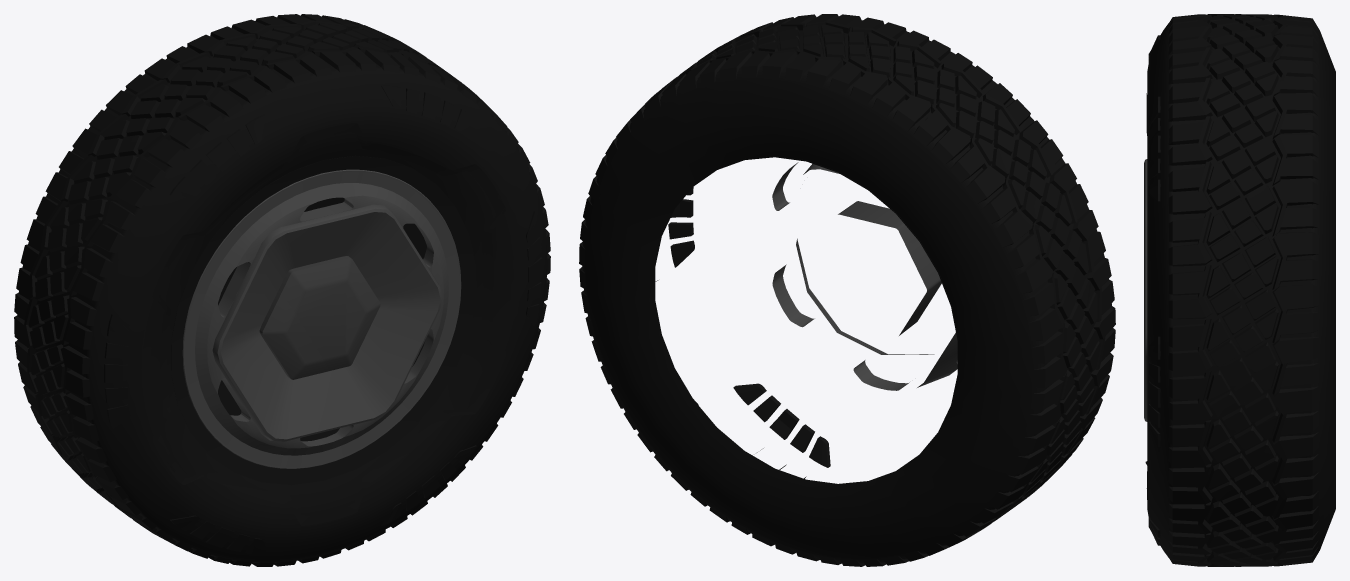
Rendered from Wheel_Cybertruck_RWD.glb.
3 views of the same model, side by side, from view 1: azimuth 30°, elevation 25°; view 2: azimuth 150°, elevation 25°; view 3: azimuth 270°, elevation 25° (orthographic).
Parts seen in each view (by area): view 1: Wheel_Cybertruck_RWD2; view 2: Wheel_Cybertruck_RWD2; view 3: Wheel_Cybertruck_RWD2.
Boxes of the visible parts, x1,y1,x2,y2 form: Wheel_Cybertruck_RWD2: (14, 14, 550, 566); Wheel_Cybertruck_RWD2: (579, 14, 1115, 566); Wheel_Cybertruck_RWD2: (1144, 14, 1335, 566).
Size of the model in its own units: 0.8334 by 0.8334 by 0.2891.
Materials: 2 (1 with a texture image).
